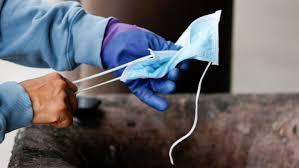Glove: (101, 19, 179, 68)
Mask: (74, 11, 220, 163), (73, 10, 220, 91), (120, 11, 220, 81)
